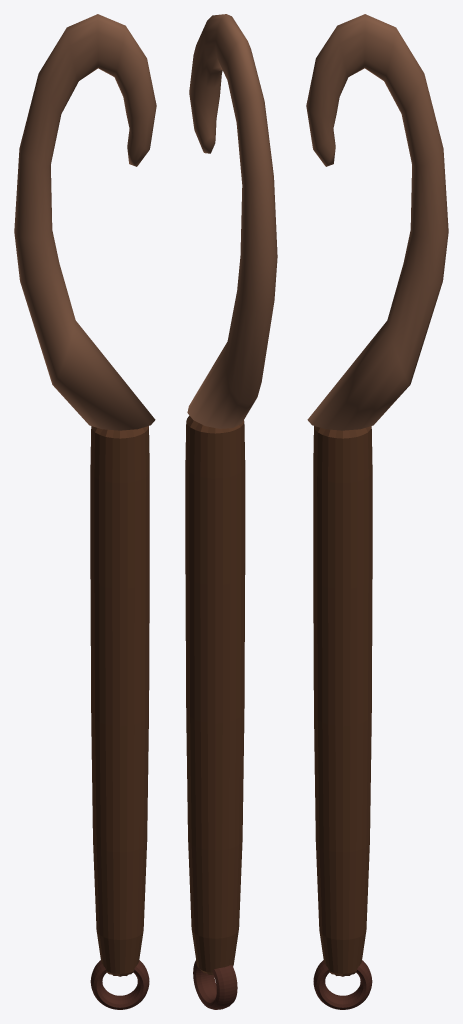
The model's file is Wand 81.glb.
The picture shows the model from 3 angles, left to right: view 1: azimuth 90°, elevation 25°; view 2: azimuth 210°, elevation 25°; view 3: azimuth 270°, elevation 25°; orthographic projection.
Parts seen in each view (by area): view 1: GeneratedWand; view 2: GeneratedWand; view 3: GeneratedWand.
Boxes of the visible parts, bbox=[...] form: GeneratedWand: bbox=[14, 14, 156, 1009]; GeneratedWand: bbox=[185, 14, 277, 1009]; GeneratedWand: bbox=[306, 14, 448, 1009].
Size of the model in its own units: 0.0273 by 0.5038 by 0.0654.
